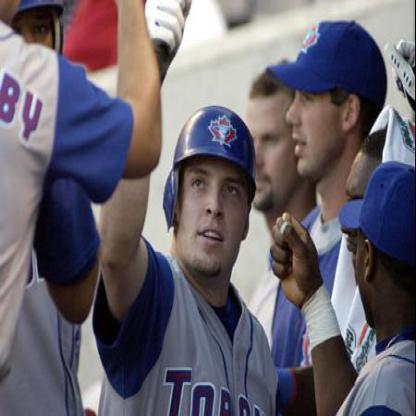face: (178, 109, 253, 279), (284, 26, 348, 182), (238, 77, 301, 218)
